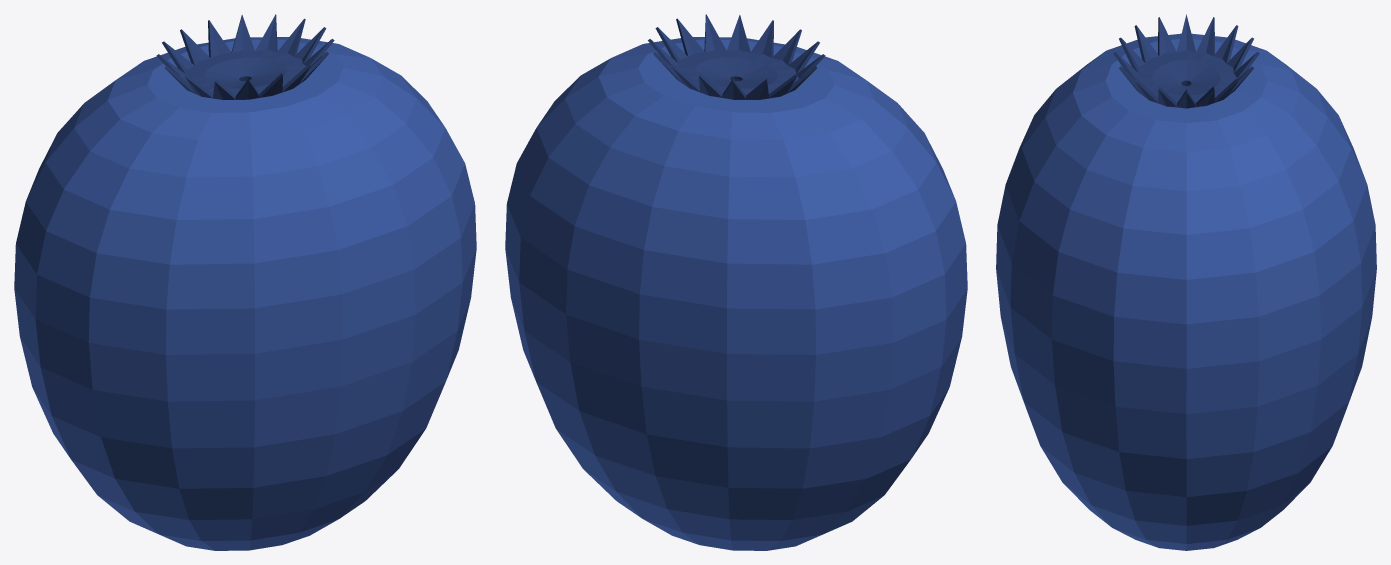
File: Good_5.fbx
3 views of the same model, side by side, from view 1: azimuth 30°, elevation 25°; view 2: azimuth 150°, elevation 25°; view 3: azimuth 270°, elevation 25° (orthographic). The views are drawn at different scales.
Parts seen in each view (by area): view 1: BerryGood.005; view 2: BerryGood.005; view 3: BerryGood.005.
Part boxes in pixels (bbox=[...]): BerryGood.005: bbox=[14, 14, 476, 550]; BerryGood.005: bbox=[505, 14, 967, 550]; BerryGood.005: bbox=[996, 14, 1376, 550].
Size of the model in its own units: 157 by 175 by 126.
